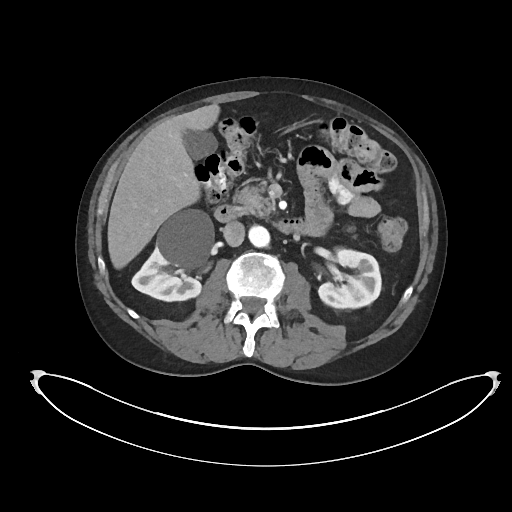Lesion: (153, 203, 218, 276)
